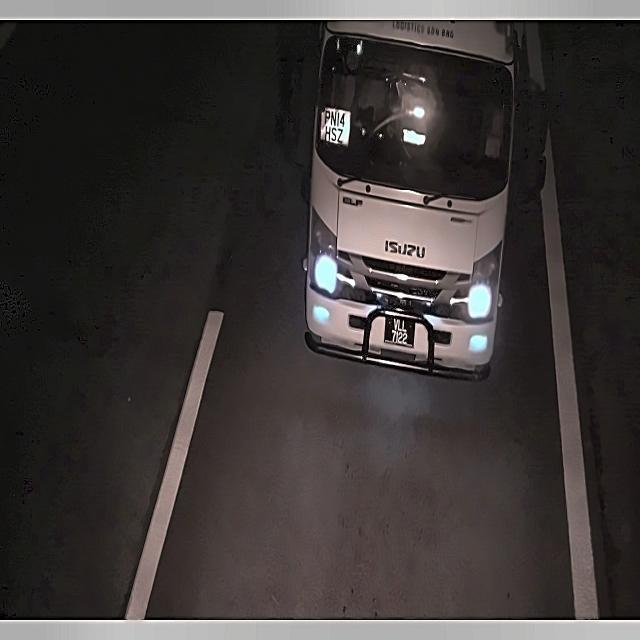car: (380, 312, 420, 355)
